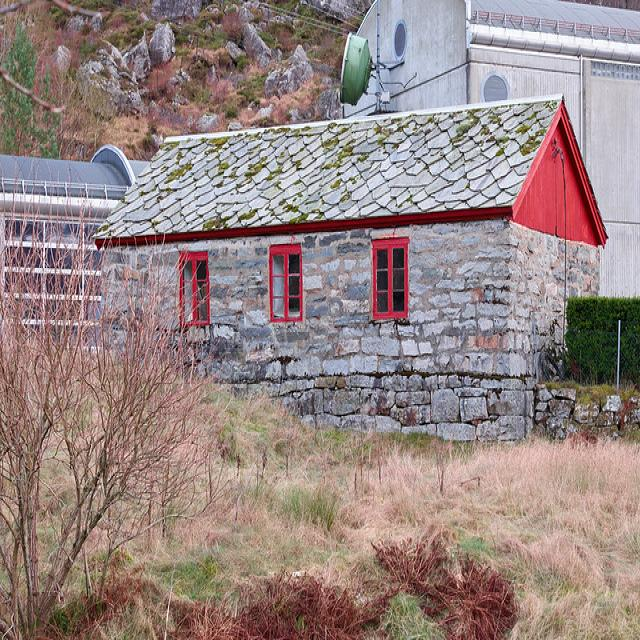building: (87, 93, 608, 448)
